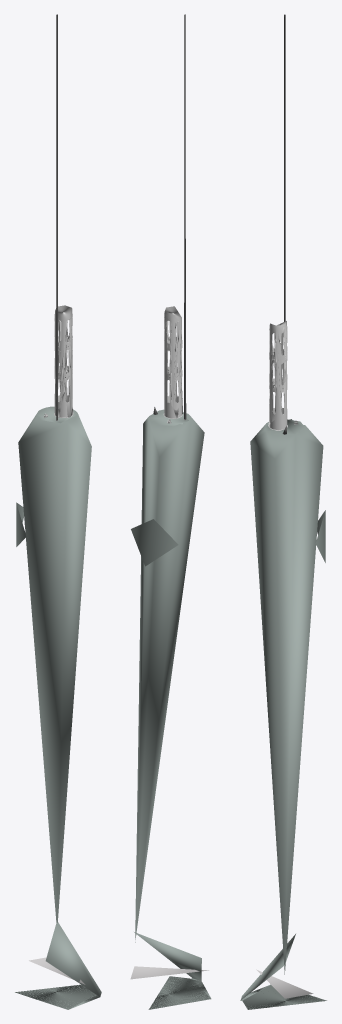
The model's file is argo.glb.
3 renders of one model, left to right at view 1: azimuth 90°, elevation 25°; view 2: azimuth 150°, elevation 25°; view 3: azimuth 270°, elevation 25°, orthographic.
Visible parts, largest first — view 1: Fake; view 2: Fake; view 3: Fake.
Boxes of the visible parts, bbox=[...] form: Fake: bbox=[15, 14, 101, 1009]; Fake: bbox=[130, 14, 211, 1009]; Fake: bbox=[240, 14, 326, 1009].
Bounding box in the file's own units: 2.11 × 26.56 × 2.14.
Materials: 1 (1 with a texture image).
